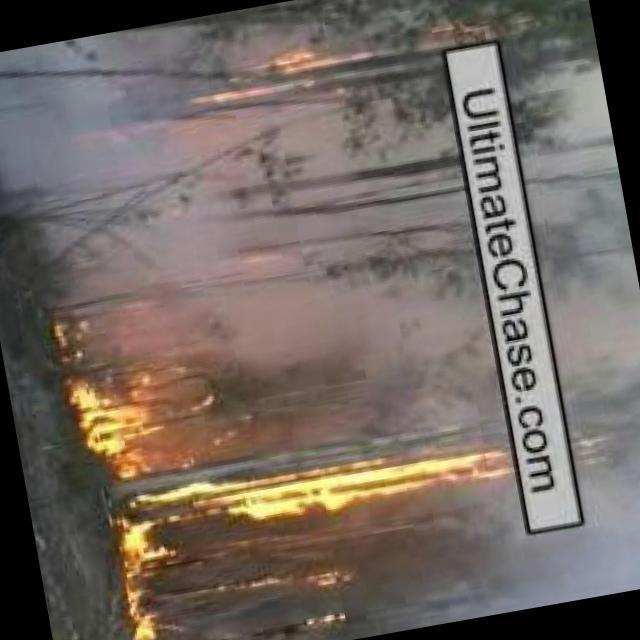Fire: (75, 361, 221, 640), (224, 423, 552, 528), (248, 34, 381, 105), (236, 558, 367, 607), (290, 610, 358, 637)
